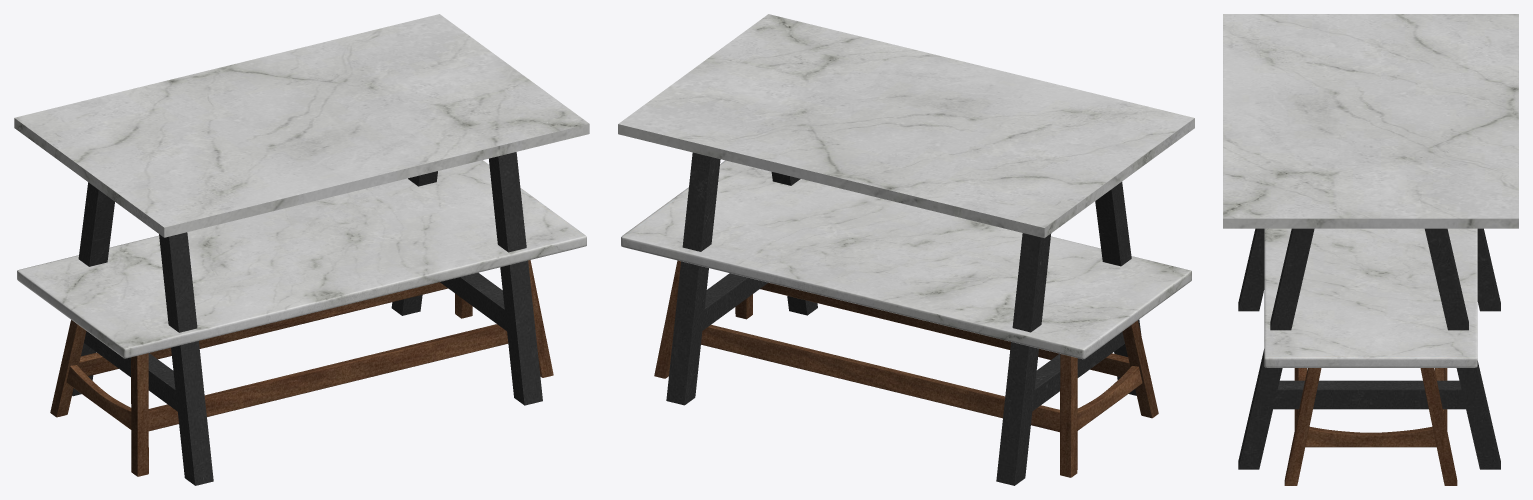
Rendered from table-set.glb.
3 views of the same model, side by side, from view 1: azimuth 30°, elevation 25°; view 2: azimuth 150°, elevation 25°; view 3: azimuth 270°, elevation 25° (orthographic).
Parts seen in each view (by area): view 1: Table10, Table39; view 2: Table10, Table39; view 3: Table10, Table39.
Part boxes in pixels (x1,y1,x2,y2): Table10: [14, 14, 589, 485]; Table39: [17, 160, 586, 476]; Table10: [618, 14, 1194, 485]; Table39: [621, 160, 1191, 477]; Table10: [1223, 14, 1518, 469]; Table39: [1264, 228, 1477, 485].
Size of the model in its own units: 1.28 by 0.7238 by 0.7198.
Materials: 2 (2 with a texture image).
